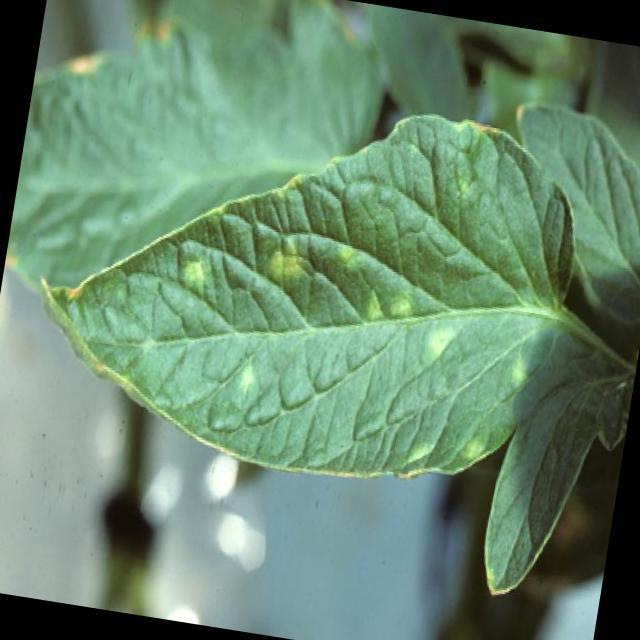Leaf Mold: (24, 49, 640, 602)
